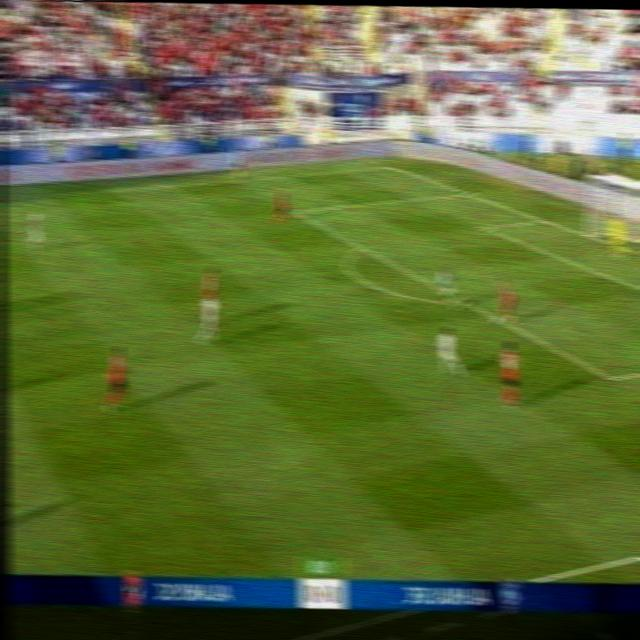bigarea_bottom_inner: (601, 364, 625, 389)
bigarea_top_inner: (288, 203, 304, 217)
bigarea_top_outter: (459, 186, 476, 200)
bottom_arc_area_intersection: (449, 291, 466, 307)
corner: (384, 159, 402, 172)
smallarea_top_inner: (478, 220, 495, 233)
smallarea_top_outter: (535, 211, 553, 226)
top_arc_area_intersection: (352, 237, 372, 254)
